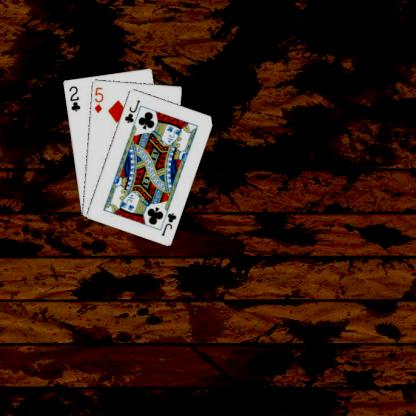2C: (66, 83, 81, 113)
5D: (92, 84, 104, 114)
JC: (158, 210, 178, 237), (122, 97, 141, 124)
